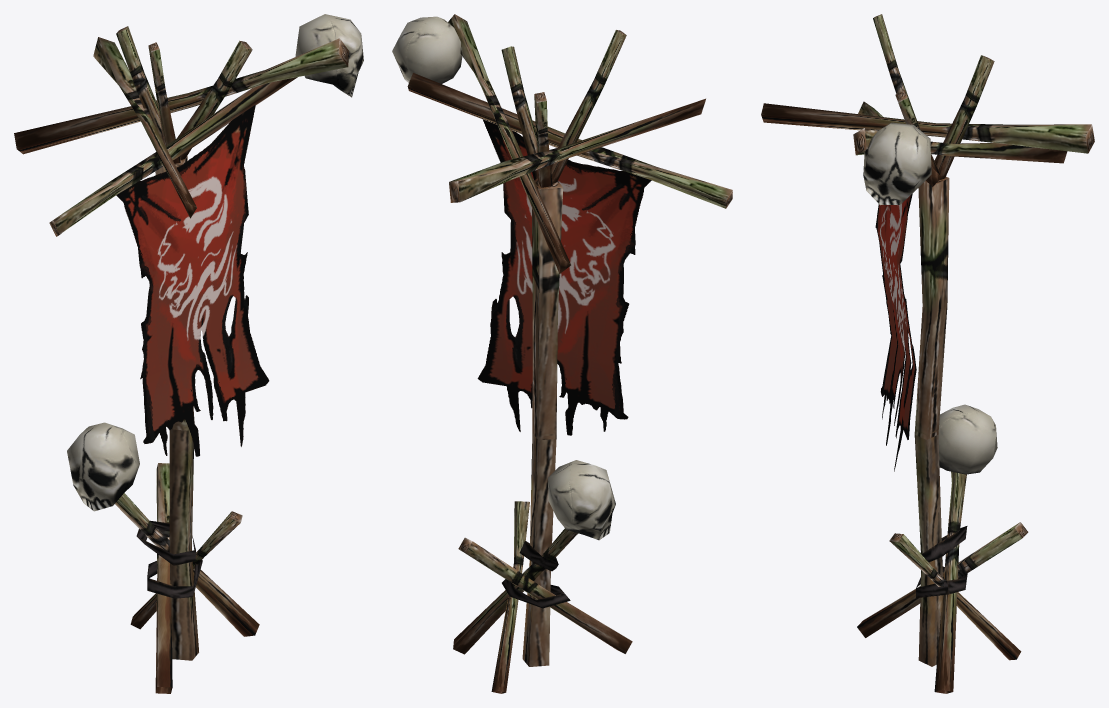
The model's file is PRP_OniTribeFlag.FBX.
3 renders of one model, left to right at view 1: azimuth 30°, elevation 25°; view 2: azimuth 150°, elevation 25°; view 3: azimuth 270°, elevation 25°, orthographic. The views are drawn at different scales.
Visible parts, largest first — view 1: PRP_OniTribeFlag; view 2: PRP_OniTribeFlag; view 3: PRP_OniTribeFlag.
Boxes of the visible parts, x1,y1,x2,y2 form: PRP_OniTribeFlag: (14, 14, 363, 693); PRP_OniTribeFlag: (392, 14, 732, 693); PRP_OniTribeFlag: (761, 14, 1094, 693).
Size of the model in its own units: 211 by 404 by 196.
